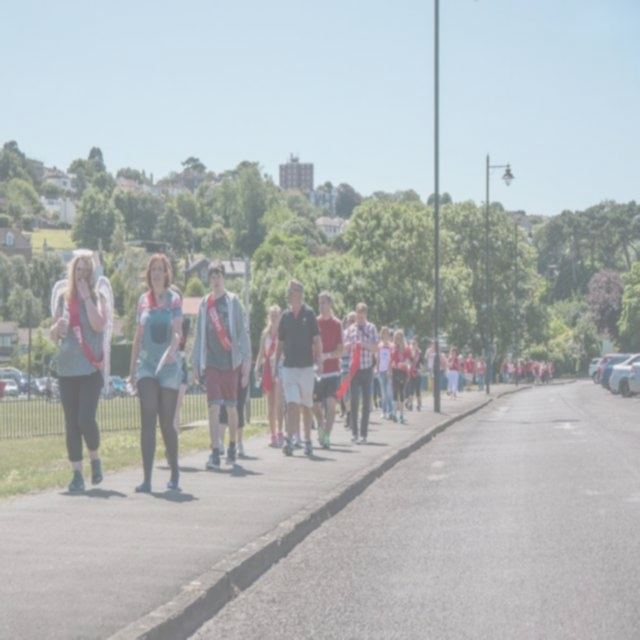pessoa: (124, 252, 184, 494), (50, 252, 110, 493), (190, 258, 250, 470), (272, 278, 322, 456), (209, 322, 252, 457), (162, 283, 192, 467), (312, 290, 346, 450), (344, 302, 380, 443), (253, 303, 286, 448), (386, 330, 411, 424), (373, 324, 397, 420), (340, 311, 360, 426), (500, 356, 554, 386), (405, 334, 424, 412), (340, 314, 350, 420), (446, 346, 460, 401), (373, 350, 383, 410), (425, 340, 436, 392), (462, 352, 476, 392), (292, 408, 303, 450), (439, 343, 447, 391), (476, 355, 486, 392), (445, 352, 453, 392), (45, 371, 53, 404), (403, 376, 411, 408), (456, 354, 466, 374), (310, 413, 318, 430), (388, 329, 396, 342), (407, 334, 414, 344)
